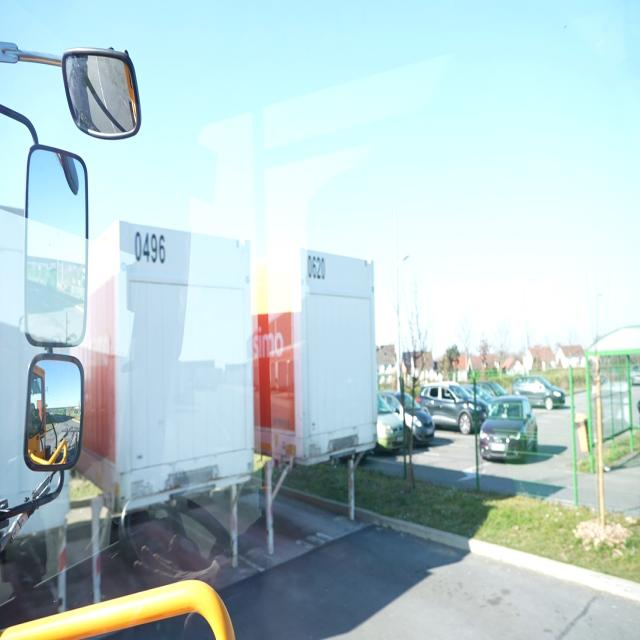Code: (132, 228, 168, 270), (303, 252, 326, 284)
